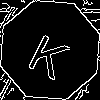K: (25, 25, 76, 81)
